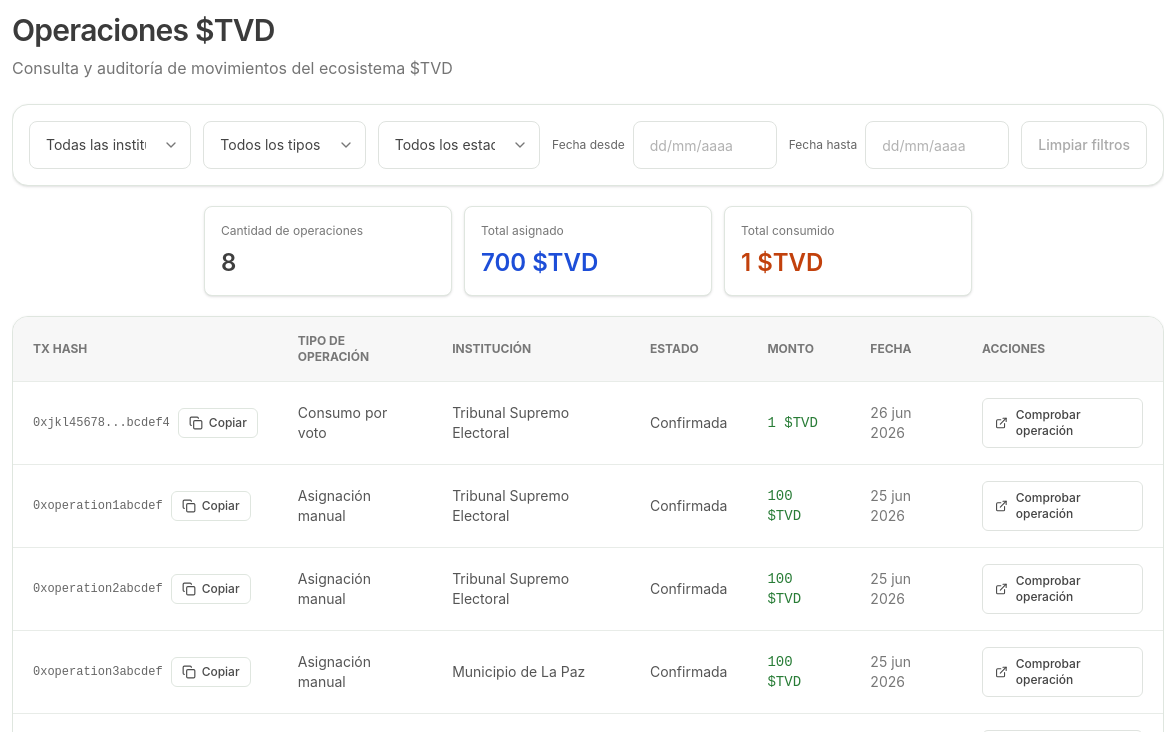
Test: pantallas Superadmin › filtra operaciones $TVD y muestra resumen por institución
This screenshot has width=1164, height=732.
Expected: the heading "Operaciones $TVD" is shown, [12,12,275,48]
Select "Tribunal Supremo Electoral" in the 1st dropdown at (110, 145), box [29,121,191,169]
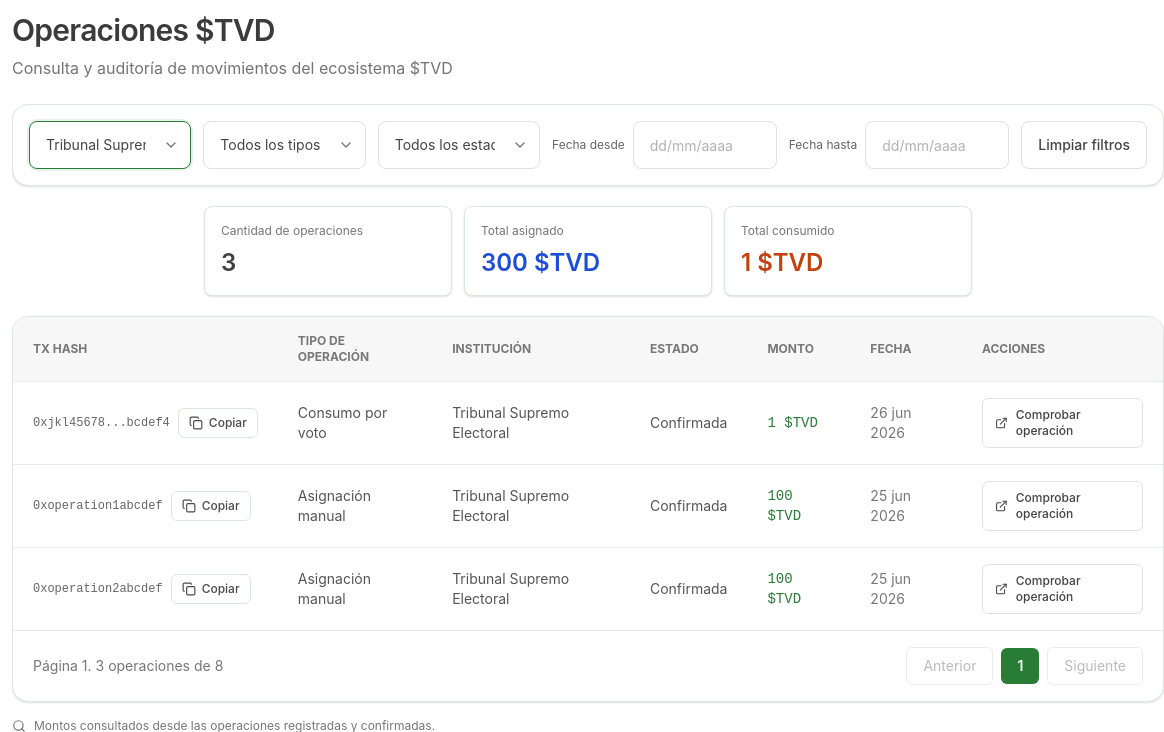
Expected: the text "Cantidad de operaciones" is shown, [221,223,363,238]
Now the text "300 $TVD" is shown, box [481,248,600,277]
